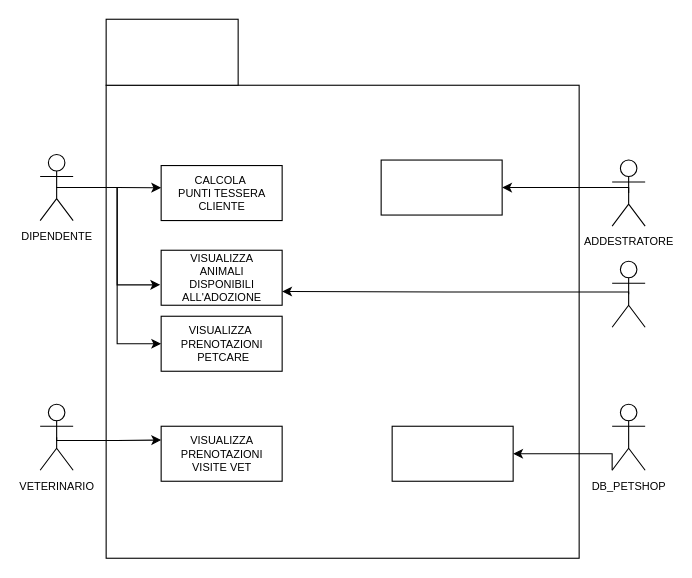
This 692x578 diagram has some shape labels left out. The shapes that lost their labels are listed below. From the top down, each one's centre as x and y in pixels, then its label:
pixel 171 51: DATABASE PETSTORE
pixel 441 187: VISUALIZZA CLIENTI ISCRITTI AI CORSI ATTIVI
pixel 628 293: CLIENTE
pixel 452 453: HA IL CONTROLLO SU TUTTE LE OPERAZIONI
